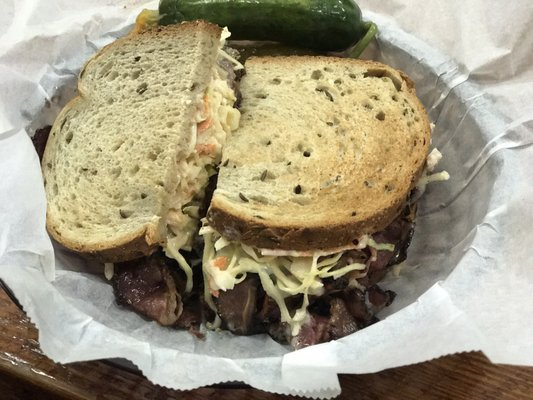soup: (42, 8, 439, 352), (198, 52, 439, 348), (41, 16, 246, 329)
